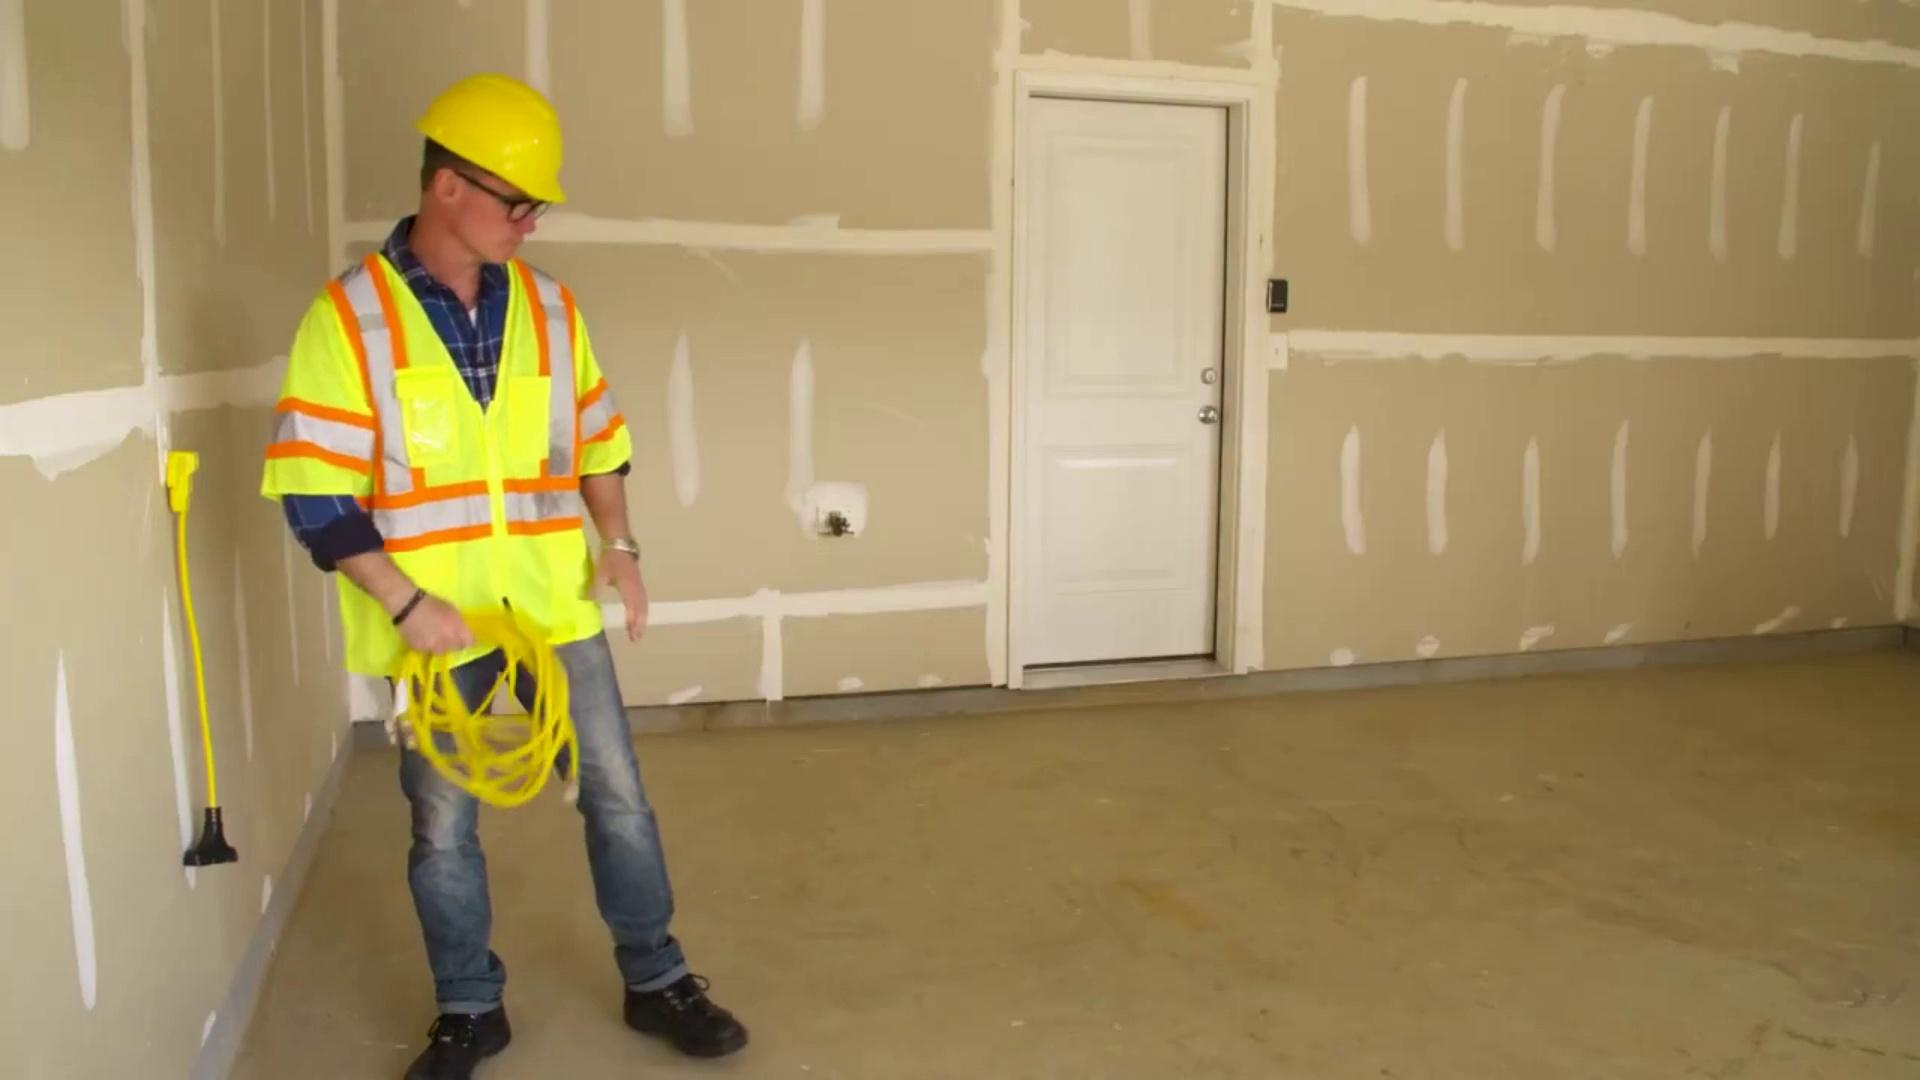hat: (394, 41, 665, 236)
vest: (225, 211, 744, 716)
